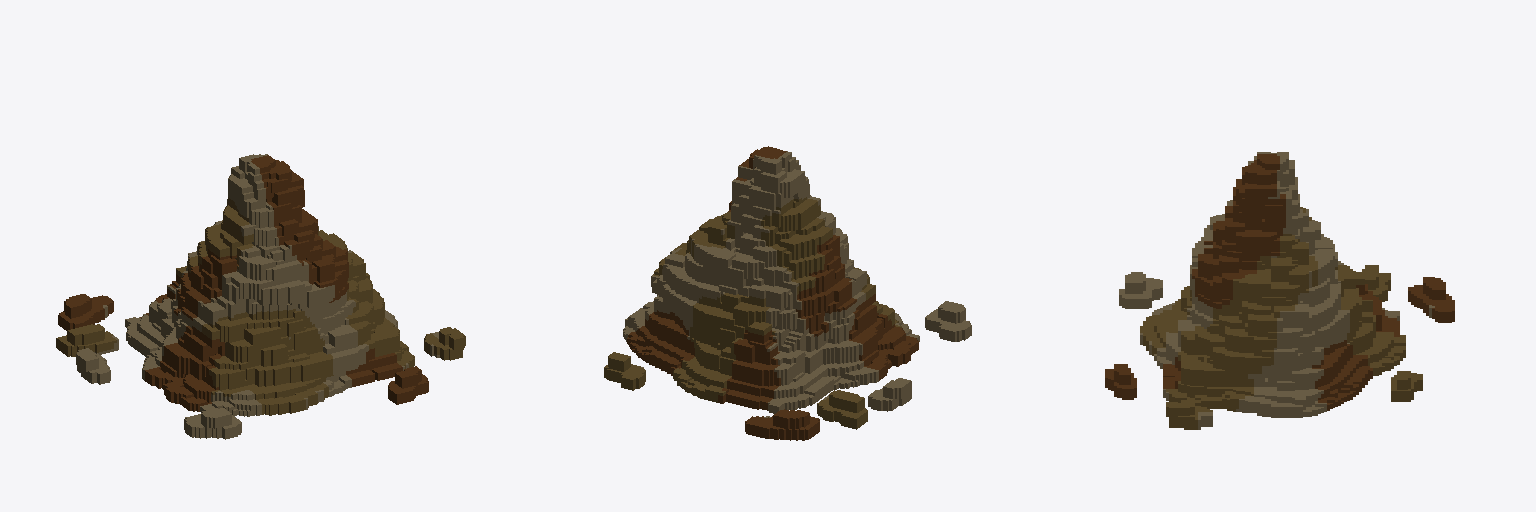
3 views of the same model, side by side, from view 1: azimuth 30°, elevation 25°; view 2: azimuth 150°, elevation 25°; view 3: azimuth 270°, elevation 25° (orthographic).
Visible parts, largest first — view 1: object 1; view 2: object 1; view 3: object 1.
Boxes of the visible parts, x1=… form: object 1: x1=56, y1=154, x2=465, y2=439; object 1: x1=604, y1=146, x2=971, y2=440; object 1: x1=1105, y1=152, x2=1454, y2=429.
Bounding box in the file's own units: 12.4 × 7.4 × 12.
1 materials, 1 textured.